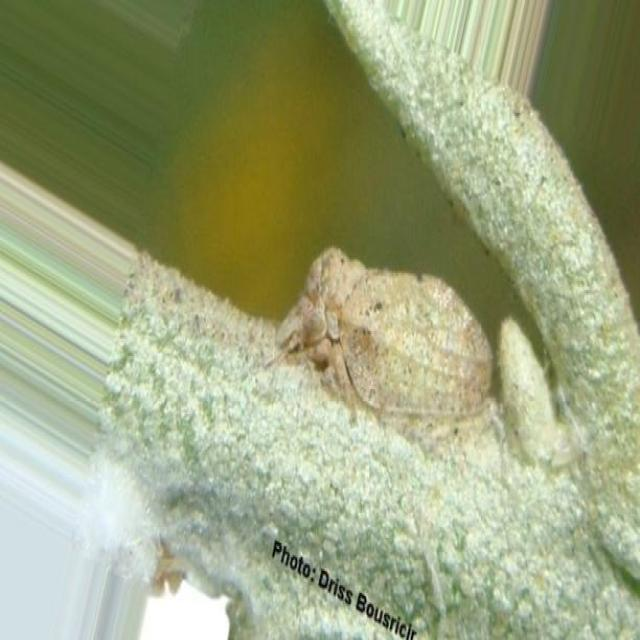Psyllid: (277, 248, 554, 458)
